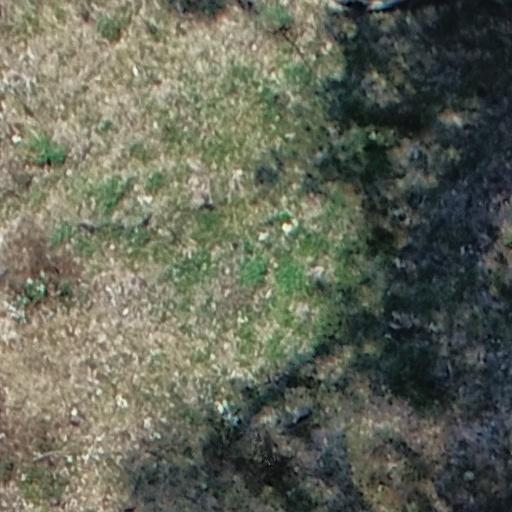stone: (7, 135, 26, 148)
